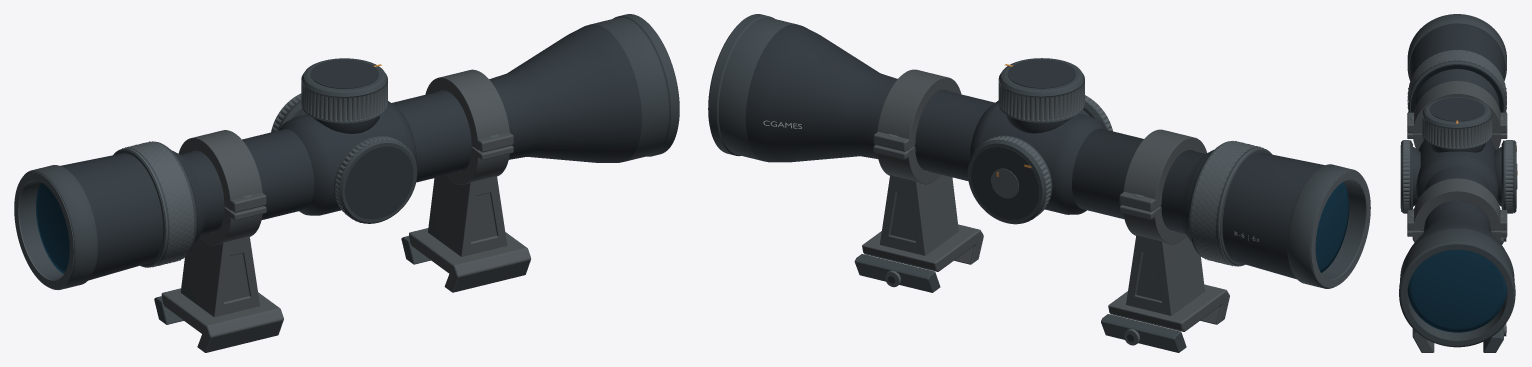
File: R6_6x_Scope_Legacy_K1_Rail_Top.fbx
3 renders of one model, left to right at view 1: azimuth 30°, elevation 25°; view 2: azimuth 150°, elevation 25°; view 3: azimuth 270°, elevation 25°, orthographic. The views are drawn at different scales.
Parts seen in each view (by area): view 1: 01 MAIN SHELL, 02 FRONT COLLAR, 07 SUPPORT 1, 07 SUPPORT 2, 02d REAR COLLAR, 03 CENTRE BODY, 05 LEFT FACE, 08.2 LOCAL BASE FIXED EDGE, 08.1 LOCAL BASE FIXED EDGE, 13 FOCUS DIAMOND DEPRESSIONS, 06 RING 1 UPPER, 06 RING 2 UPPER (+13 smaller); view 2: 01 MAIN SHELL, 02 FRONT COLLAR, 07 SUPPORT 1, 07 SUPPORT 2, 02d REAR COLLAR, 03 CENTRE BODY, 05 RIGHT FACE, 13 FOCUS DIAMOND DEPRESSIONS, 06 RING 1 UPPER, 06 RING 2 UPPER, 08.1 LOCAL BASE FIXED EDGE, 08.2 LOCAL BASE FIXED EDGE (+15 smaller); view 3: 11 FRONT VISUAL PANE, 01 MAIN SHELL, 02 FRONT COLLAR, 06 RING 1 UPPER, 03 CENTRE BODY, 06 RING 2 UPPER, 04c TOP GRIP VALLEYS, 02d REAR COLLAR, 13 FOCUS DIAMOND DEPRESSIONS, 04d TOP FACE, 04b TOP CAP, 02g FOCUS COLLAR (+17 smaller).
Boxes of the visible parts, left/top/right/bottom form: 01 MAIN SHELL: left=60, top=24, right=641, bottom=280; 02 FRONT COLLAR: left=590, top=14, right=679, bottom=161; 07 SUPPORT 1: left=428, top=175, right=507, bottom=256; 07 SUPPORT 2: left=180, top=236, right=259, bottom=317; 02d REAR COLLAR: left=19, top=165, right=97, bottom=289; 03 CENTRE BODY: left=279, top=101, right=416, bottom=215; 05 LEFT FACE: left=345, top=146, right=413, bottom=219; 08.2 LOCAL BASE FIXED EDGE: left=161, top=288, right=283, bottom=352; 08.1 LOCAL BASE FIXED EDGE: left=409, top=228, right=530, bottom=292; 13 FOCUS DIAMOND DEPRESSIONS: left=122, top=141, right=194, bottom=267; 06 RING 1 UPPER: left=425, top=69, right=509, bottom=150; 06 RING 2 UPPER: left=178, top=130, right=262, bottom=210; 01 MAIN SHELL: left=745, top=24, right=1324, bottom=279; 02 FRONT COLLAR: left=708, top=14, right=797, bottom=161; 07 SUPPORT 1: left=880, top=175, right=958, bottom=255; 07 SUPPORT 2: left=1126, top=235, right=1204, bottom=315; 02d REAR COLLAR: left=1287, top=164, right=1365, bottom=288; 03 CENTRE BODY: left=969, top=100, right=1106, bottom=214; 05 RIGHT FACE: left=971, top=147, right=1039, bottom=219; 13 FOCUS DIAMOND DEPRESSIONS: left=1191, top=141, right=1263, bottom=266; 06 RING 1 UPPER: left=877, top=69, right=961, bottom=149; 06 RING 2 UPPER: left=1123, top=129, right=1206, bottom=209; 08.1 LOCAL BASE FIXED EDGE: left=862, top=224, right=983, bottom=271; 08.2 LOCAL BASE FIXED EDGE: left=1108, top=284, right=1229, bottom=331; 11 FRONT VISUAL PANE: left=1407, top=249, right=1506, bottom=332; 01 MAIN SHELL: left=1400, top=24, right=1513, bottom=271; 02 FRONT COLLAR: left=1399, top=228, right=1515, bottom=347; 06 RING 1 UPPER: left=1413, top=178, right=1501, bottom=230; 03 CENTRE BODY: left=1416, top=139, right=1498, bottom=200; 06 RING 2 UPPER: left=1413, top=81, right=1501, bottom=133; 04c TOP GRIP VALLEYS: left=1422, top=113, right=1492, bottom=147; 02d REAR COLLAR: left=1407, top=14, right=1506, bottom=80; 13 FOCUS DIAMOND DEPRESSIONS: left=1407, top=50, right=1506, bottom=112; 04d TOP FACE: left=1429, top=97, right=1484, bottom=121; 04b TOP CAP: left=1422, top=96, right=1491, bottom=149; 02g FOCUS COLLAR: left=1408, top=50, right=1506, bottom=112.
Size of the model in its own units: 30.3 by 10.8 by 6.42.
